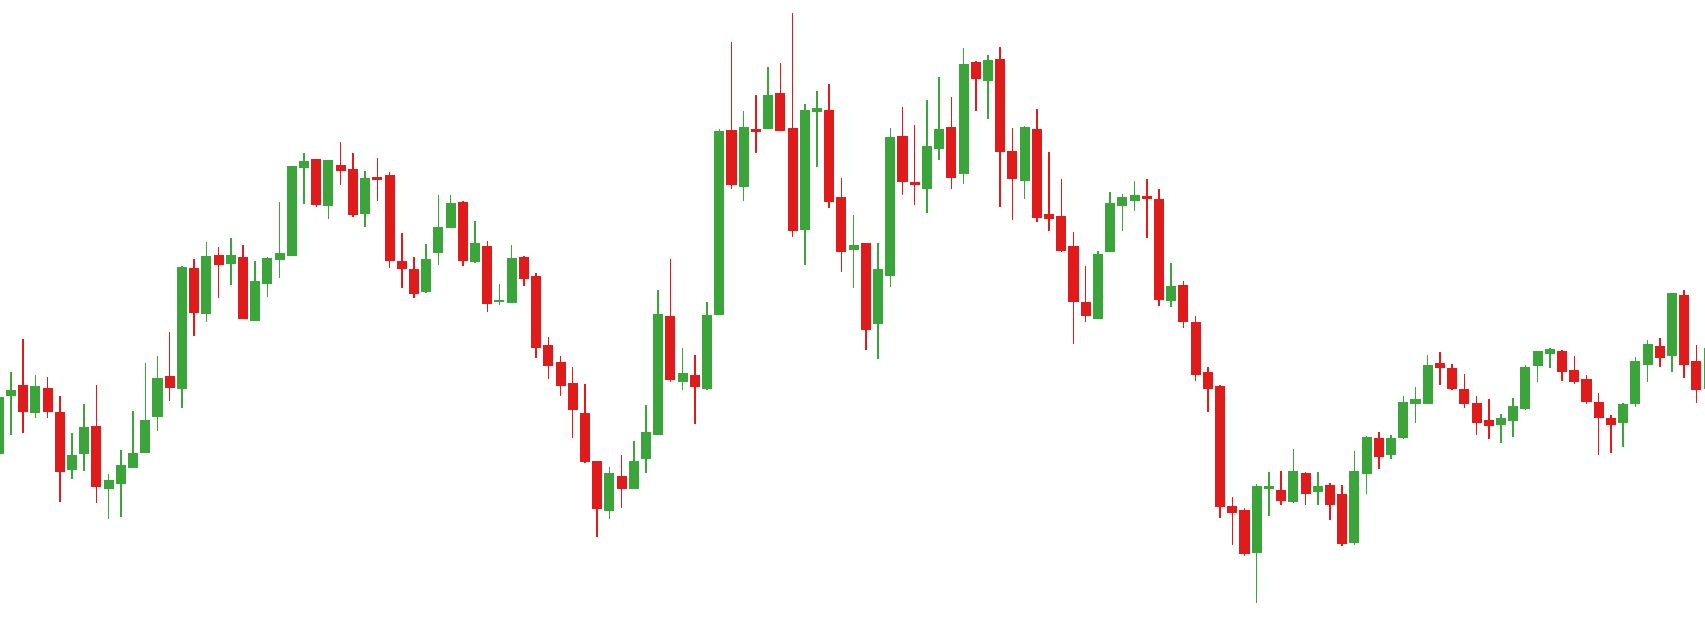buy: (1483, 372, 1630, 460)
sell: (725, 7, 802, 165)
